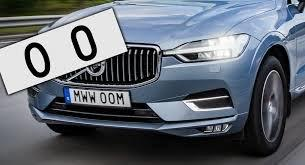license-plates: (65, 88, 130, 108)
